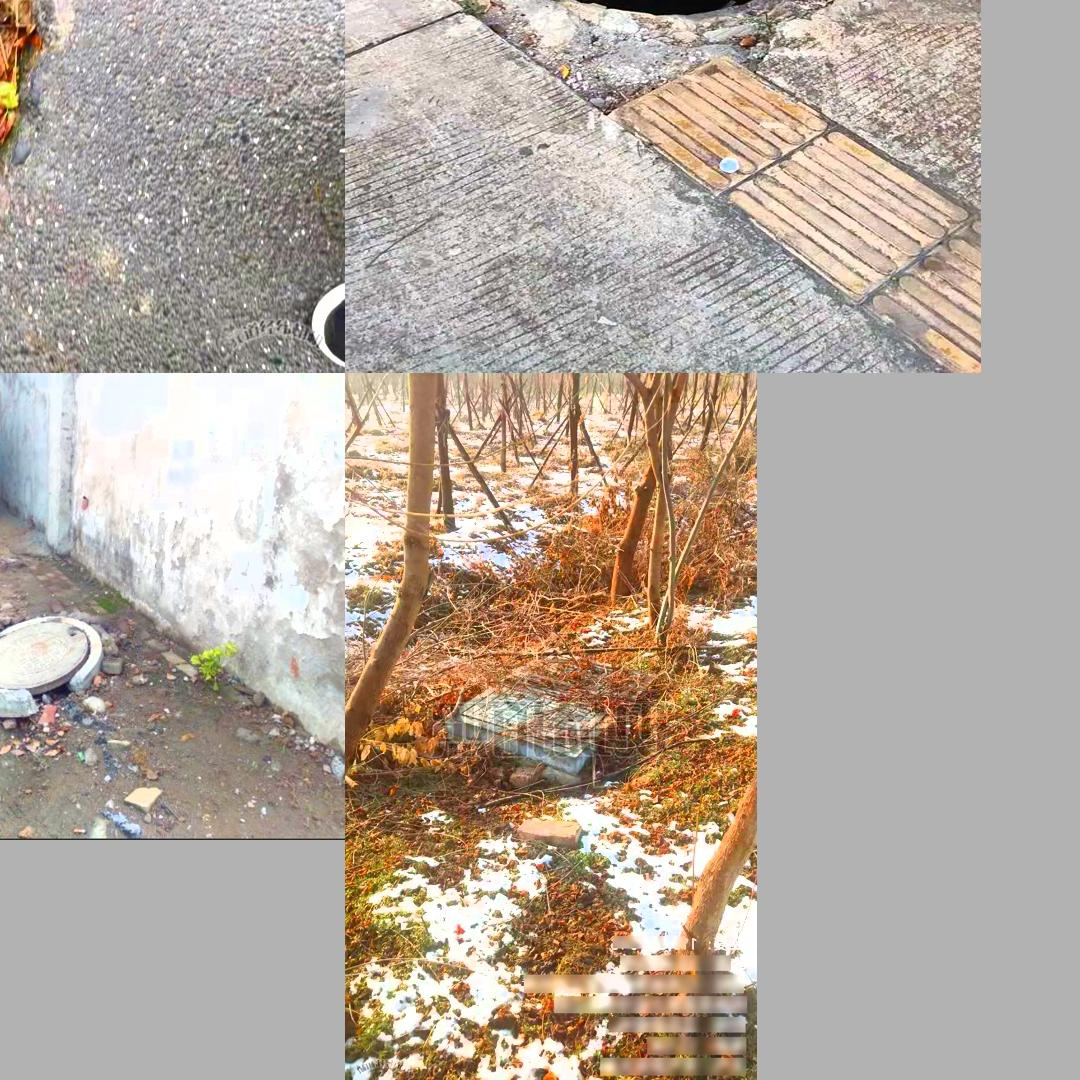circle: (404, 0, 925, 96), (442, 648, 655, 780), (0, 0, 57, 304), (0, 614, 105, 720)
